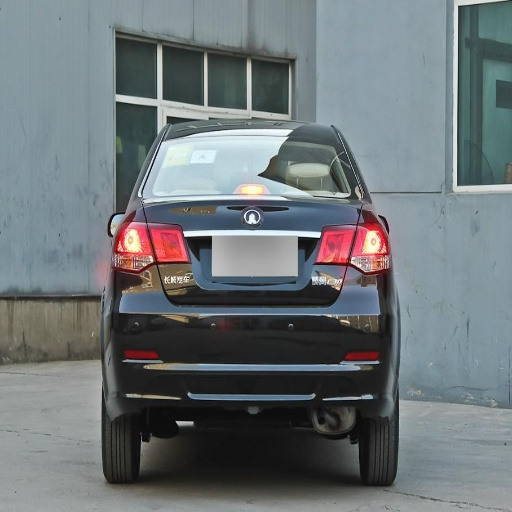back_bumper: (104, 266, 394, 427)
